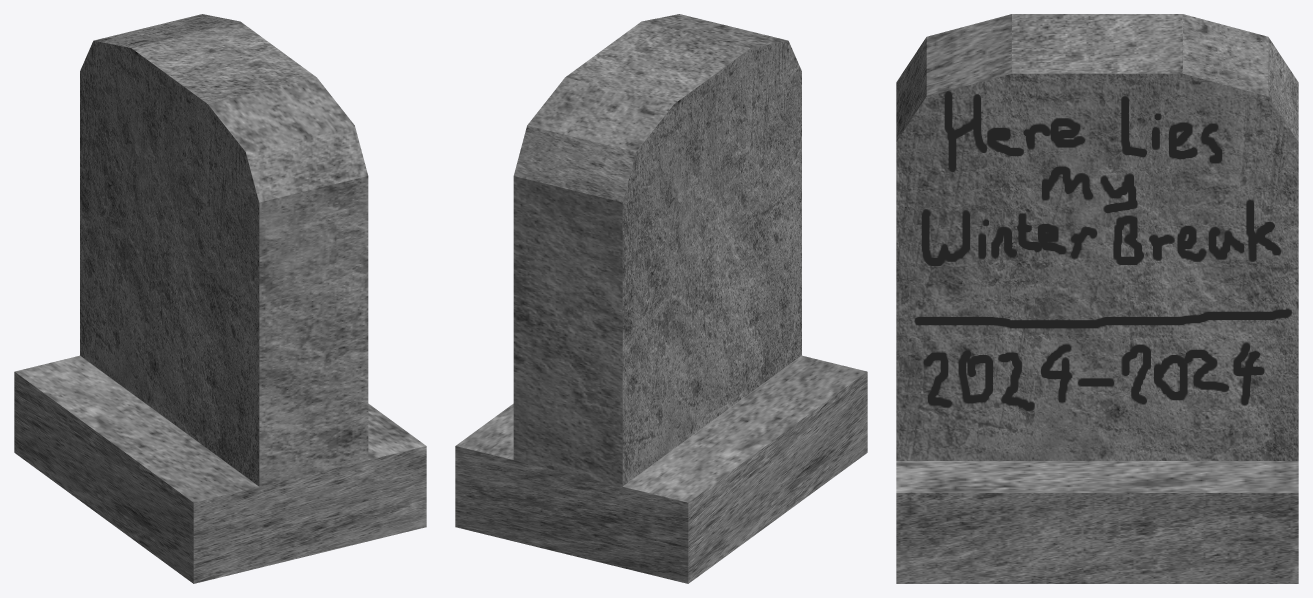
File: goodtimes.obj
The picture shows the model from 3 angles, left to right: view 1: azimuth 30°, elevation 25°; view 2: azimuth 150°, elevation 25°; view 3: azimuth 270°, elevation 25°; orthographic projection. The views are drawn at different scales.
Visible parts, largest first — view 1: Cube; view 2: Cube; view 3: Cube.
Part boxes in pixels (left/top/right/bottom): Cube: left=14, top=14, right=426, bottom=583; Cube: left=455, top=14, right=867, bottom=583; Cube: left=896, top=14, right=1298, bottom=583.
Bounding box in the file's own units: 1.5 × 2.62 × 2.
1 material, 1 textured.
